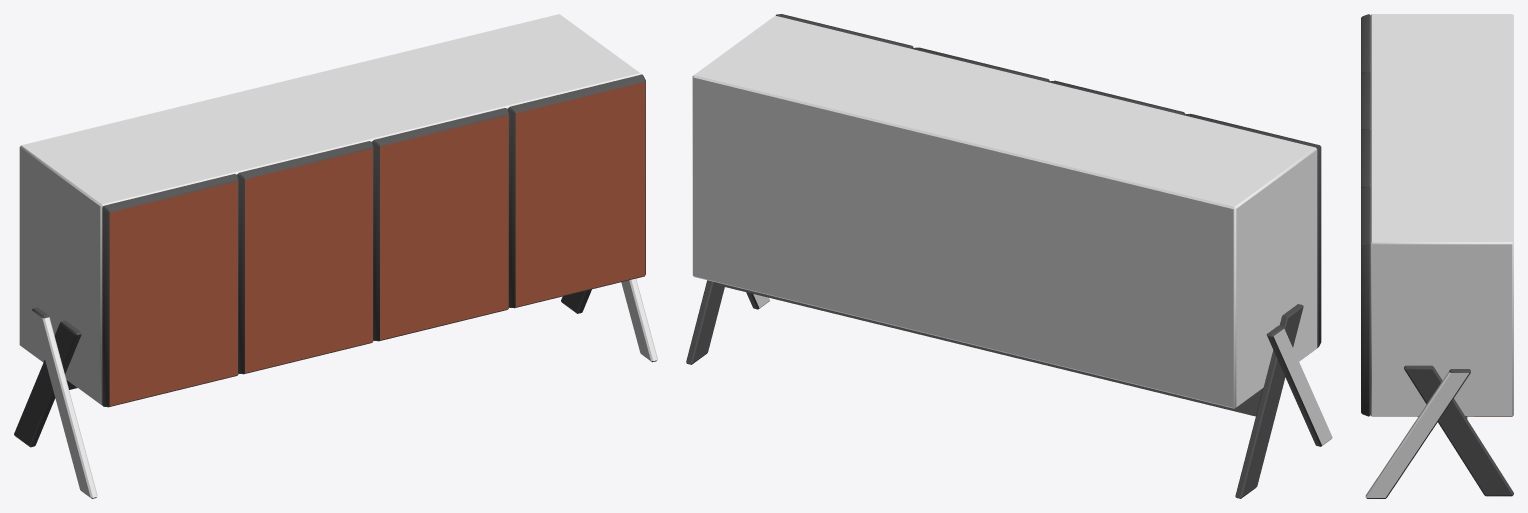
3 renders of one model, left to right at view 1: azimuth 30°, elevation 25°; view 2: azimuth 150°, elevation 25°; view 3: azimuth 270°, elevation 25°, orthographic. The views are drawn at different scales.
Parts seen in each view (by area): view 1: TG4002B3; view 2: TG4002B3; view 3: TG4002B3.
Boxes of the visible parts, bbox=[...] form: TG4002B3: bbox=[14, 14, 657, 498]; TG4002B3: bbox=[686, 14, 1332, 498]; TG4002B3: bbox=[1361, 14, 1513, 498].
Size of the model in its own units: 158 by 42.5 by 77.
